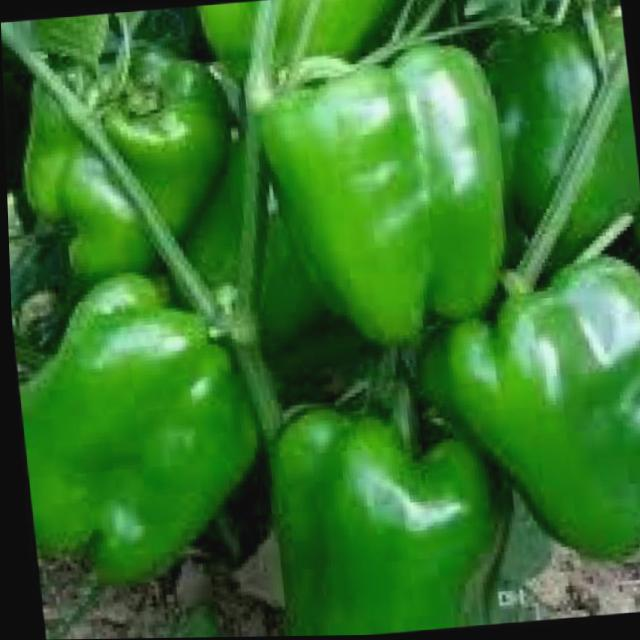Capsicum: (245, 36, 513, 350), (8, 266, 268, 582), (405, 258, 640, 568), (256, 390, 500, 637), (12, 38, 239, 284)
